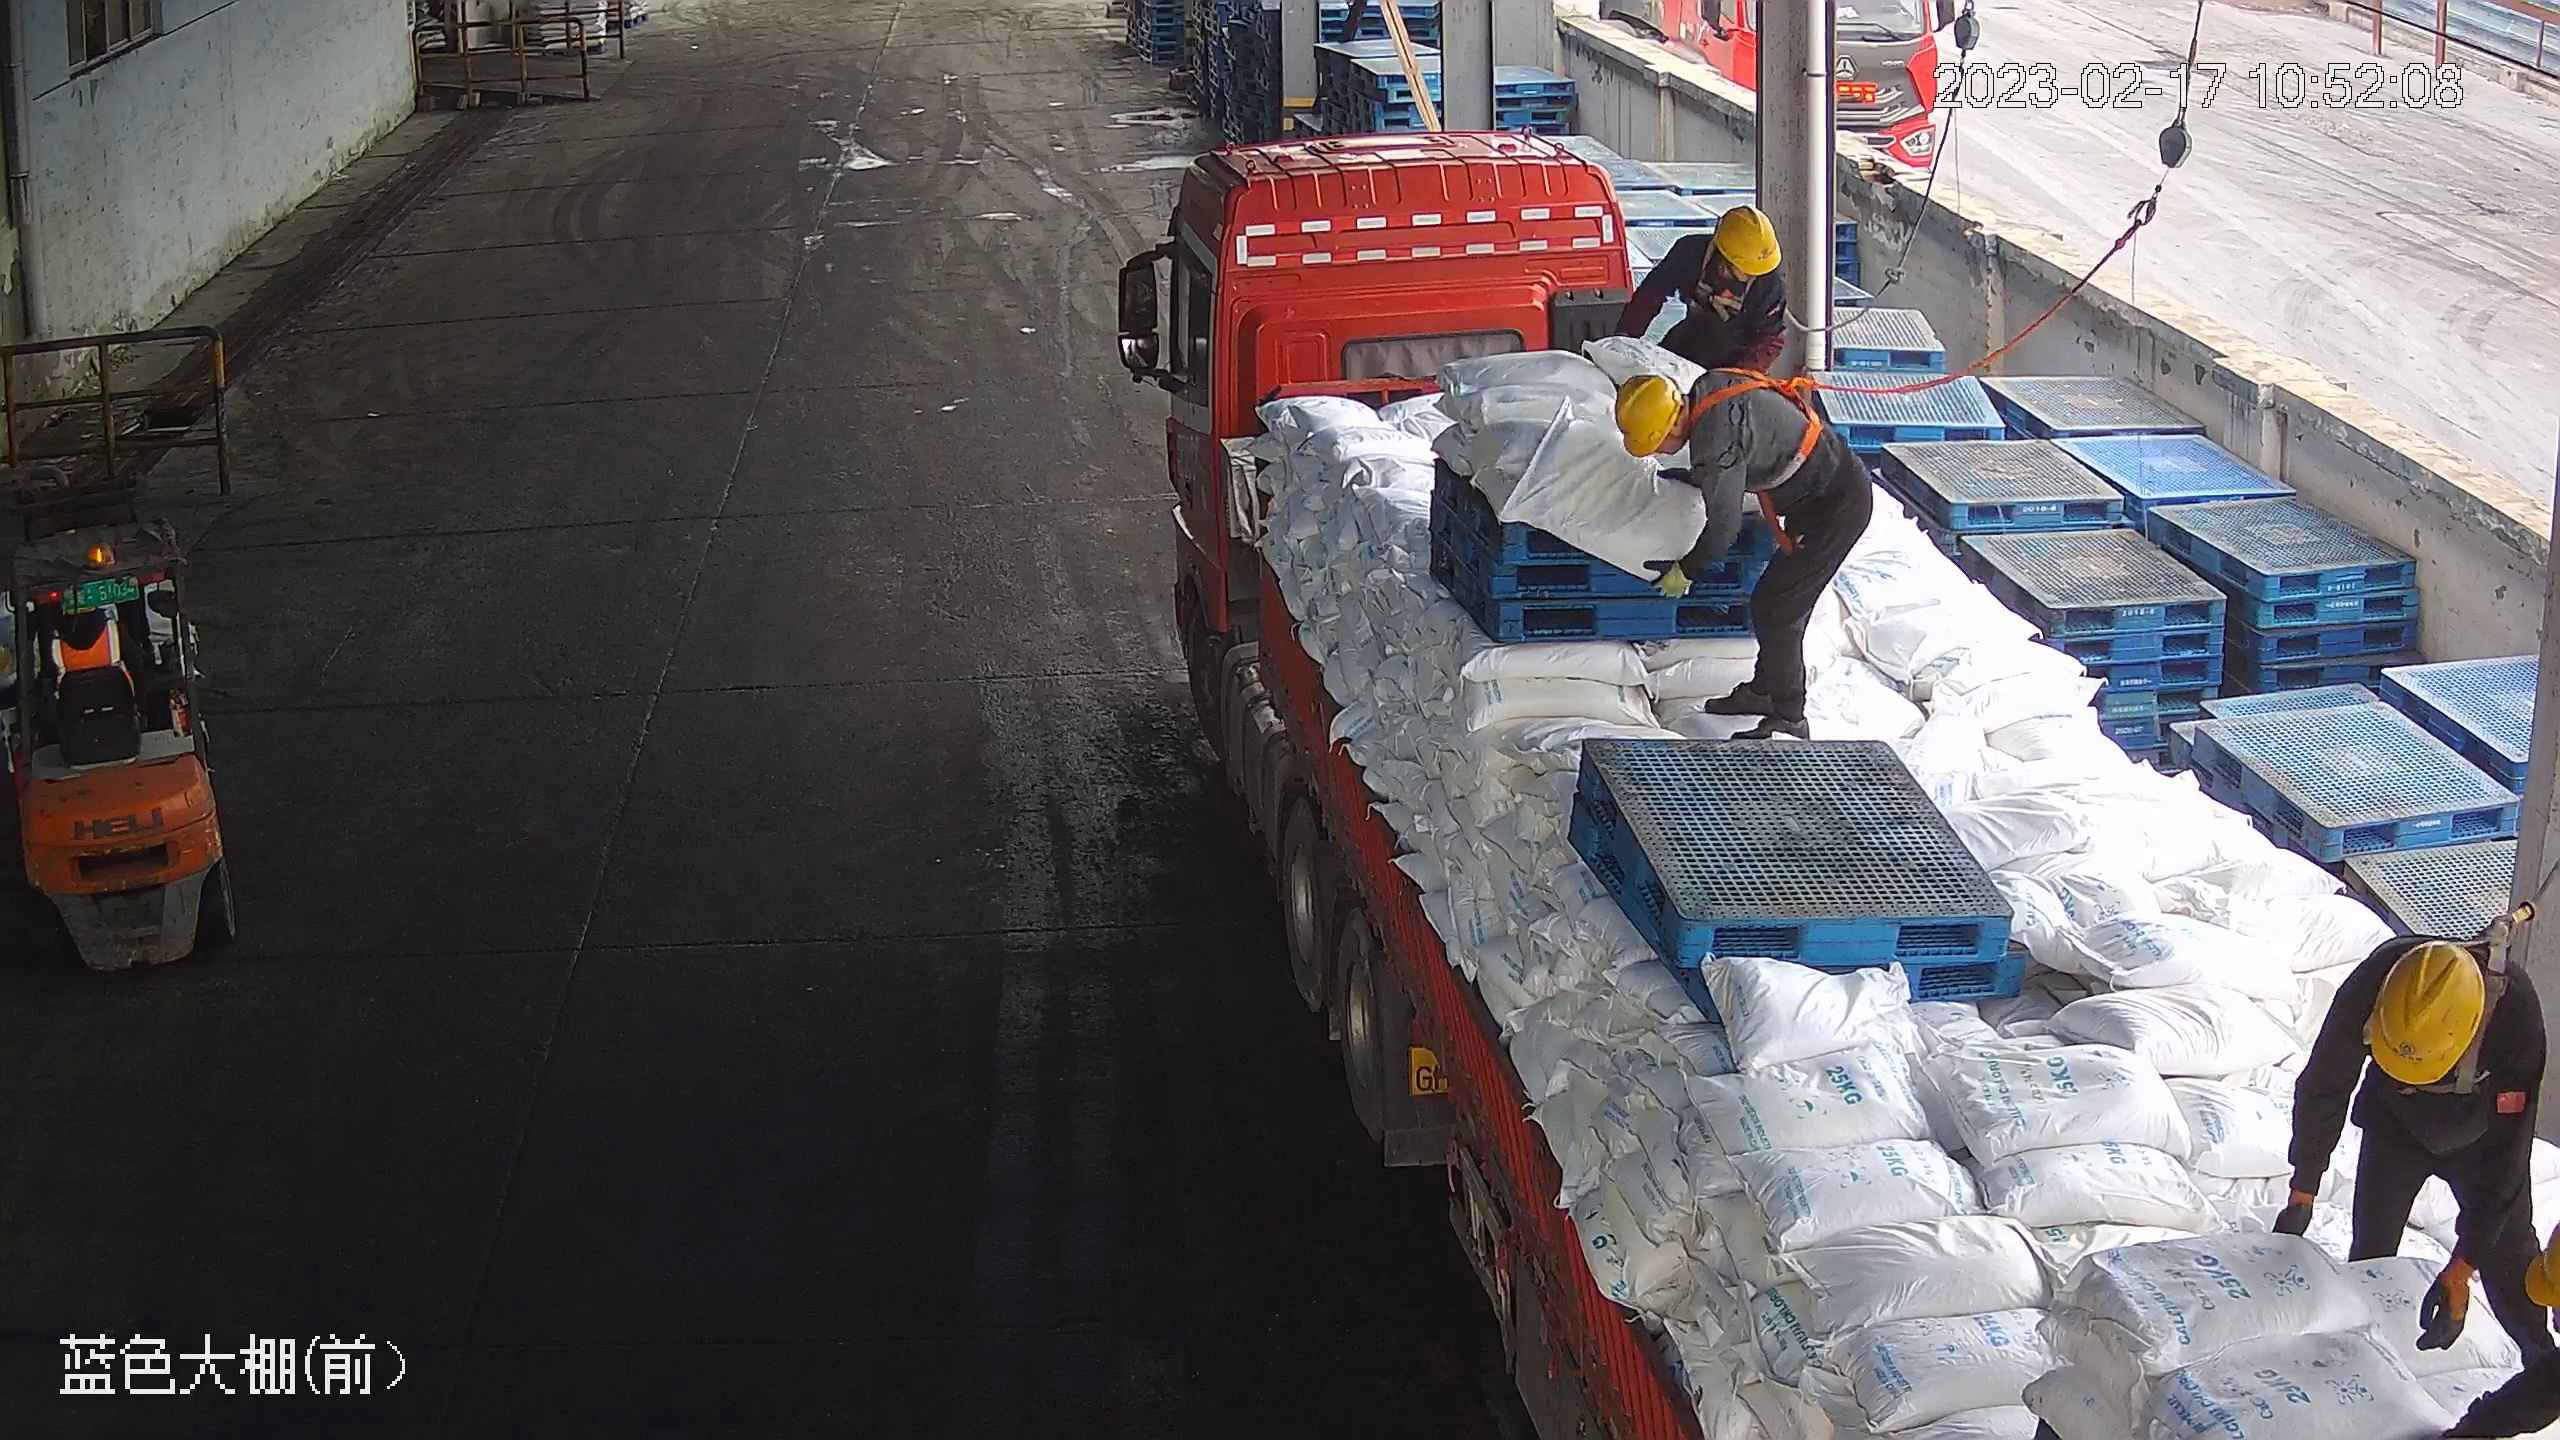belt: (2409, 899, 2534, 1098), (1684, 362, 1827, 492), (1689, 236, 1786, 318)
head: (2337, 939, 2539, 1098), (1609, 367, 1780, 483), (1655, 206, 1792, 306)
helmet: (2371, 942, 2487, 1081), (1612, 370, 1683, 460), (1713, 204, 1784, 276)
people: (2275, 928, 2550, 1345), (1614, 363, 1876, 745)
truck: (1164, 157, 2552, 1439)
